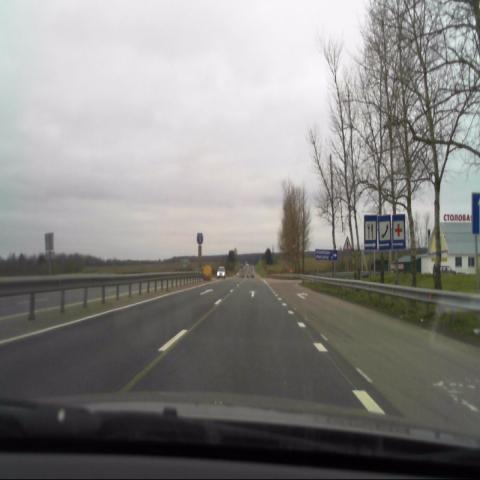2_3_2: (341, 235, 353, 252)
5_15_3: (195, 230, 204, 246)
7_1: (392, 213, 407, 249)
7_6: (378, 214, 391, 248)
7_7: (364, 216, 375, 250)
